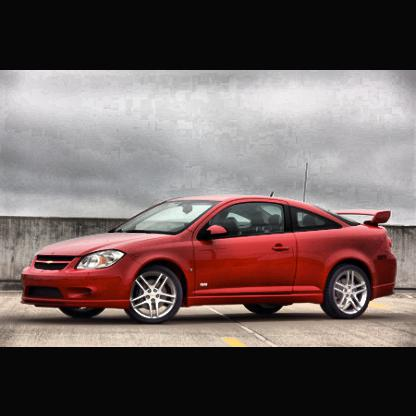Chevrolet Cobalt SS 2010: (20, 189, 399, 325)
